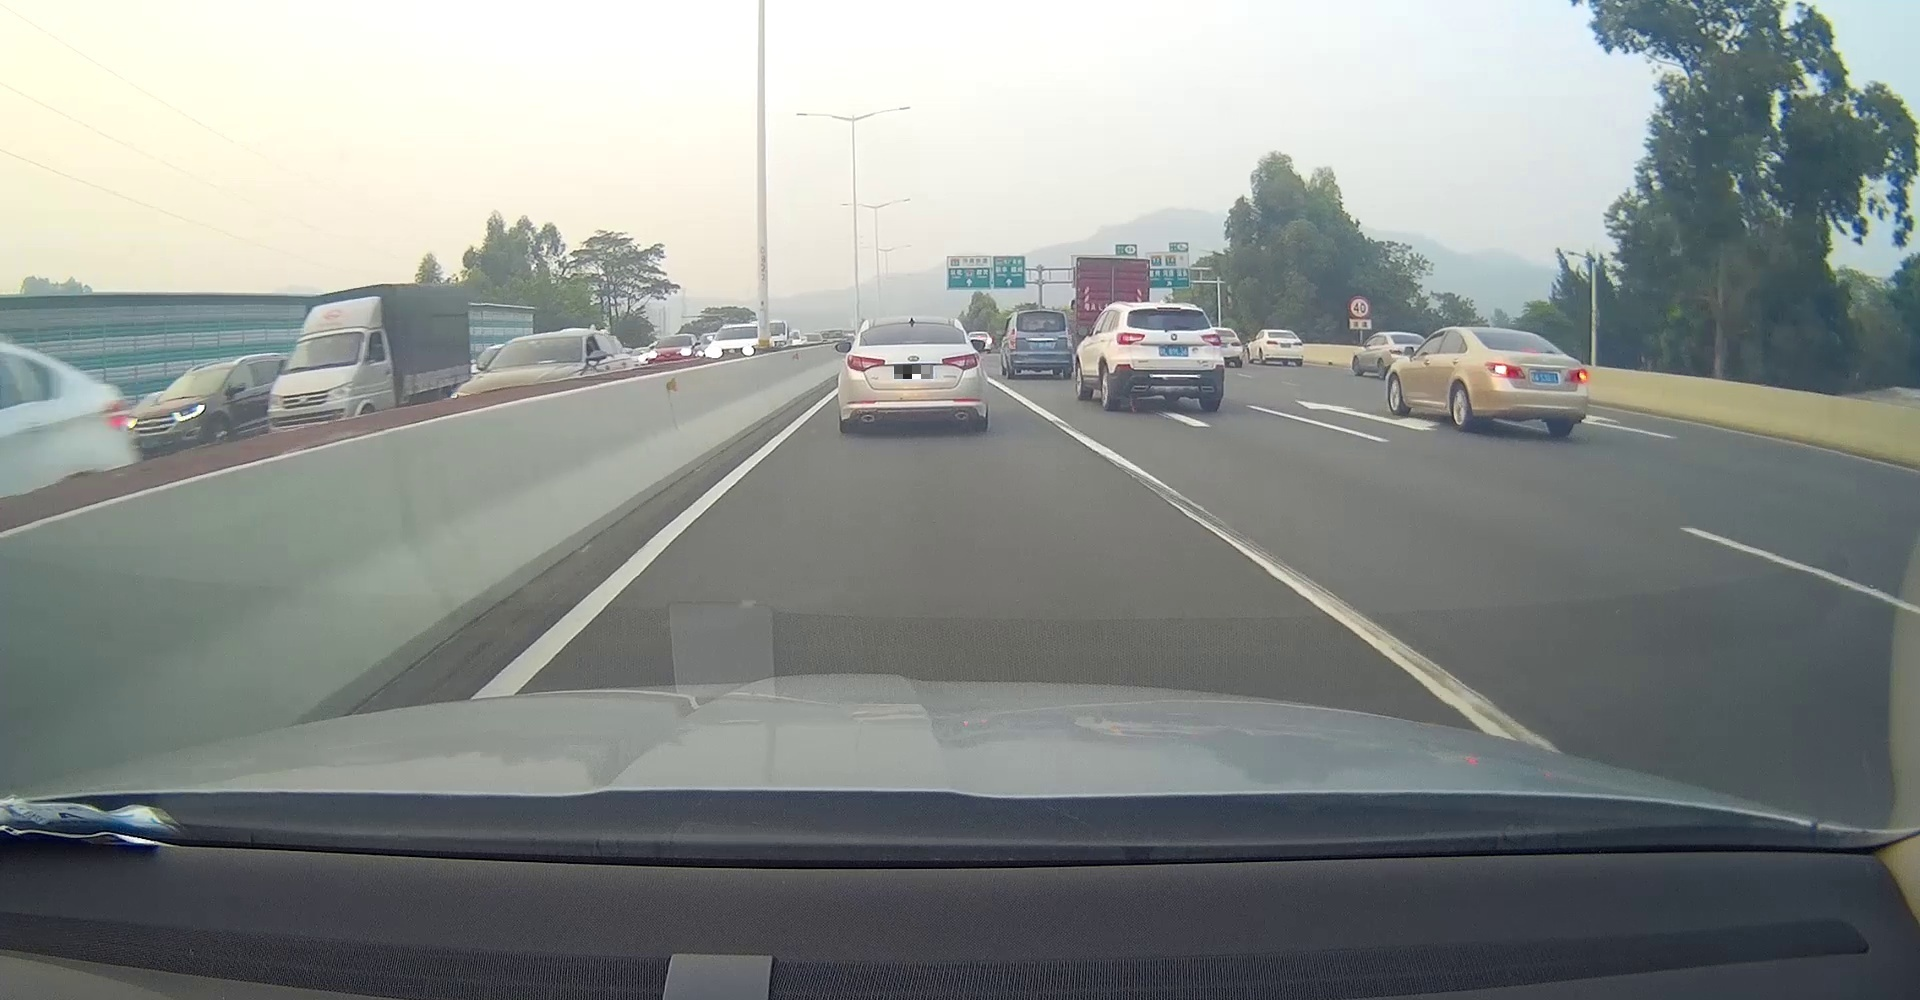L_light: (1484, 362, 1526, 379), (846, 354, 886, 372), (1116, 332, 1145, 345), (1010, 327, 1016, 350)
R_light: (941, 352, 980, 371), (1564, 367, 1589, 383), (1200, 332, 1222, 346), (1067, 327, 1073, 348)
T_light: (1157, 307, 1181, 311), (1523, 348, 1537, 353), (903, 340, 927, 343), (1036, 327, 1045, 331)
day-brake: (1470, 327, 1590, 437)
day-no: (841, 315, 987, 431), (1114, 302, 1225, 412), (1006, 308, 1074, 379)
plate_1: (894, 365, 933, 379)
